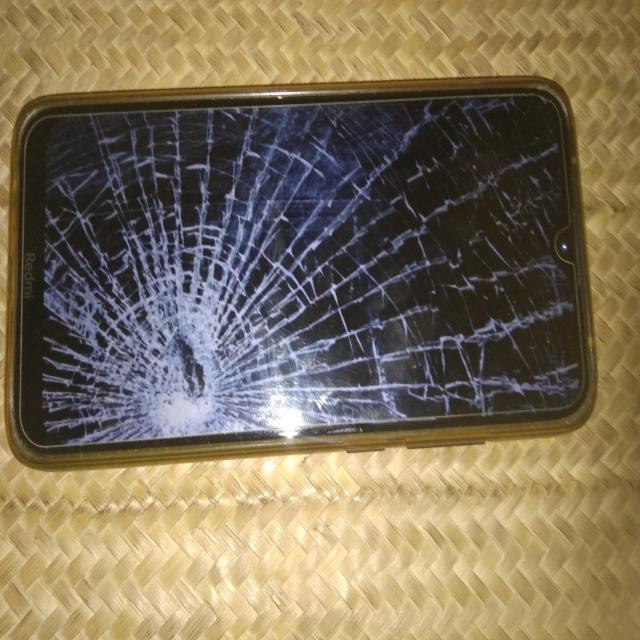phone: (9, 59, 614, 498)
